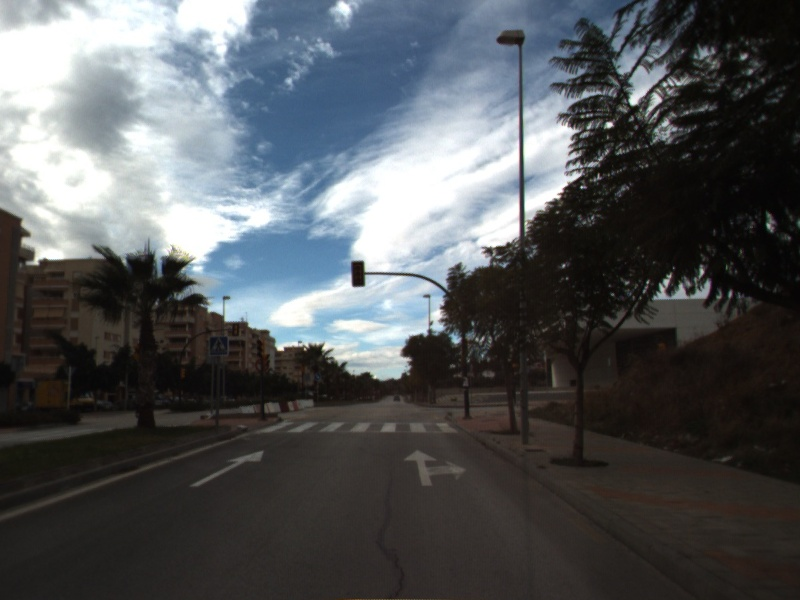STRAIGHT: (188, 448, 266, 489)
STRAIGHT_RIGHT: (401, 447, 469, 488)
